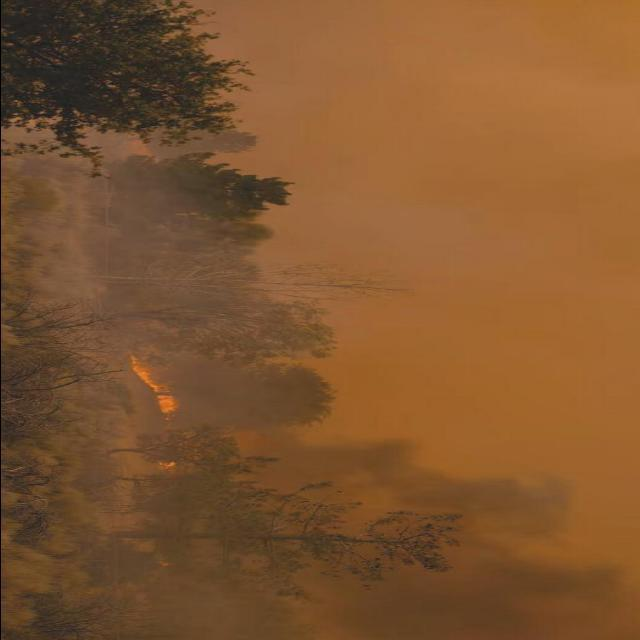Fire: (117, 354, 196, 421), (154, 460, 180, 470)
